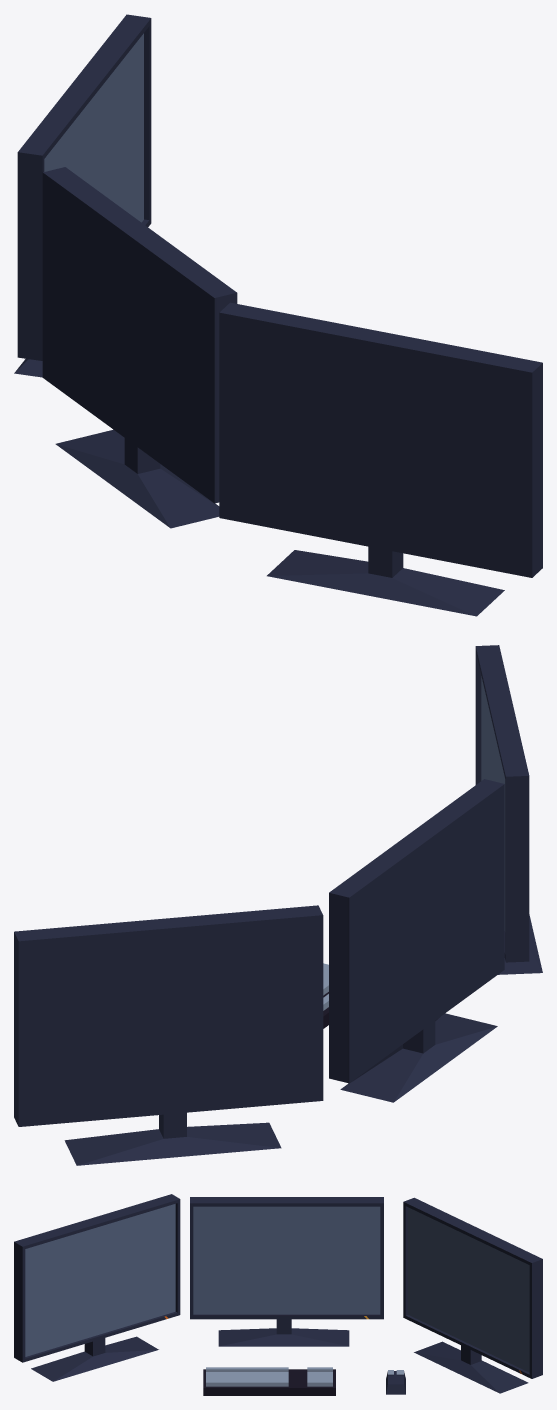
The model's file is computer.glb.
The picture shows the model from 3 angles, top to bottom: view 1: azimuth 30°, elevation 25°; view 2: azimuth 150°, elevation 25°; view 3: azimuth 270°, elevation 25°; orthographic projection. The views are drawn at different scales.
Visible parts, largest first — view 1: Monitor.002, Monitor, Monitor.001; view 2: Monitor.001, Monitor, Monitor.002; view 3: Monitor, Monitor.002, Monitor.001, Keyboard, Mouse.
Part boxes in pixels (left/top/right/bottom): Monitor.002: left=219, top=302, right=542, bottom=616; Monitor: left=42, top=167, right=237, bottom=528; Monitor.001: left=14, top=14, right=151, bottom=377; Monitor.001: left=14, top=905, right=323, bottom=1165; Monitor: left=329, top=779, right=504, bottom=1102; Monitor.002: left=475, top=645, right=542, bottom=974; Monitor: left=190, top=1197, right=383, bottom=1346; Monitor.002: left=14, top=1194, right=180, bottom=1381; Monitor.001: left=403, top=1197, right=542, bottom=1393; Keyboard: left=203, top=1367, right=335, bottom=1395; Mouse: left=386, top=1370, right=405, bottom=1394.
Size of the model in its own units: 2.63 by 2.47 by 8.27.
Materials: 5 (5 with a texture image).
